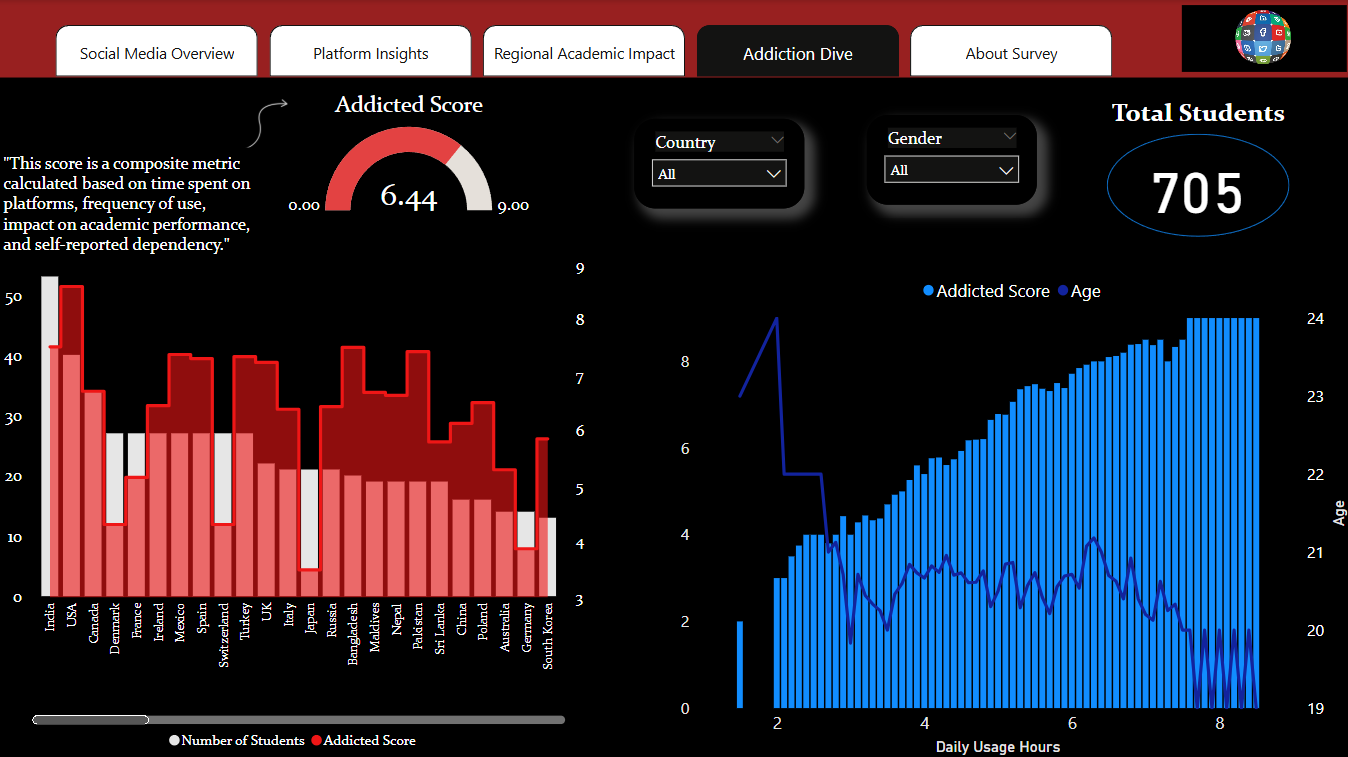

The page's visual inventory and layout, read from the dashboard file:
{"tool":"powerbi","page":{"name":"Addiction Dive","canvas":[1280,720],"ordinal":3},"visuals":[{"type":"image","box":[194.9,86,114.8,65.7],"z":0,"group":"g2"},{"type":"shape","box":[1048,126,172.9,97.4],"z":0,"group":"g1"},{"type":"card","title":"Total Students","fields":{"Values":["CountNonNull(Students Social Media Addiction.Student_ID)"]},"box":[1075.5,142.4,118,64.5],"z":1000,"group":"g1"},{"type":"textbox","box":[1047.8,86,184.7,39.6],"z":2000,"group":"g1"},{"type":"lineStackedColumnComboChart","fields":{"Category":["Students Social Media Addiction.Country"],"Y":["CountNonNull(Students Social Media Addiction.Student_ID)"],"Y2":["Avg(Students Social Media Addiction.Addicted_Score)"]},"box":[0,235.7,560.5,484.1],"z":2000},{"type":"group","id":"g1","title":"Group 1","box":[1047.8,86,184.7,137],"z":3000},{"type":"gauge","title":"Addicted Score","fields":{"Y":["Avg(Students Social Media Addiction.Addicted_Score)"]},"box":[264.9,86,248.1,126.2],"z":4000,"group":"g2"},{"type":"textbox","box":[0,139.2,251.7,109.9],"z":6000,"group":"g2"},{"type":"shape","box":[0,0,1280.3,73.3],"z":6001},{"type":"image","box":[1114.4,0,165.6,73.3],"z":6002},{"type":"pageNavigator","box":[54.1,23.9,1000.1,49.4],"z":6003},{"type":"lineClusteredColumnComboChart","fields":{"Category":["Students Social Media Addiction.Avg_Daily_Usage_Hours"],"Y":["Avg(Students Social Media Addiction.Addicted_Score)"],"Y2":["Avg(Students Social Media Addiction.Age)"]},"box":[640.2,253.2,640.2,466.6],"z":6004},{"type":"group","id":"g2","title":"Group 2","box":[0,86,512.9,163.1],"z":6005},{"type":"slicer","fields":{"Values":["Students Social Media Addiction.Country"]},"box":[601.1,112,161.2,84.7],"z":6006},{"type":"slicer","fields":{"Values":["Students Social Media Addiction.Gender"]},"box":[821,109.3,161.2,84.7],"z":6007}]}

Visuals, with their boxes in screenshot pixels (x1, y1, x2, y2), scaled from the page's 1280x720 canvas onto the 1348x757 screenshot:
image: x1=205, y1=90, x2=326, y2=159
shape: x1=1104, y1=132, x2=1286, y2=235
"Total Students" card: x1=1133, y1=150, x2=1257, y2=218
textbox: x1=1103, y1=90, x2=1298, y2=132
lineStackedColumnComboChart - Students Social Media Addiction.Country x CountNonNull(Students Social Media Addiction.Student_ID): x1=0, y1=248, x2=590, y2=756
"Group 1" group: x1=1103, y1=90, x2=1298, y2=234
"Addicted Score" gauge: x1=279, y1=90, x2=540, y2=223
textbox: x1=0, y1=146, x2=265, y2=262
shape: x1=0, y1=0, x2=1347, y2=77
image: x1=1174, y1=0, x2=1347, y2=77
pageNavigator: x1=57, y1=25, x2=1110, y2=77
lineClusteredColumnComboChart - Students Social Media Addiction.Avg_Daily_Usage_Hours x Avg(Students Social Media Addiction.Addicted_Score): x1=674, y1=266, x2=1347, y2=756
"Group 2" group: x1=0, y1=90, x2=540, y2=262
slicer - Students Social Media Addiction.Country: x1=633, y1=118, x2=803, y2=207
slicer - Students Social Media Addiction.Gender: x1=865, y1=115, x2=1034, y2=204
